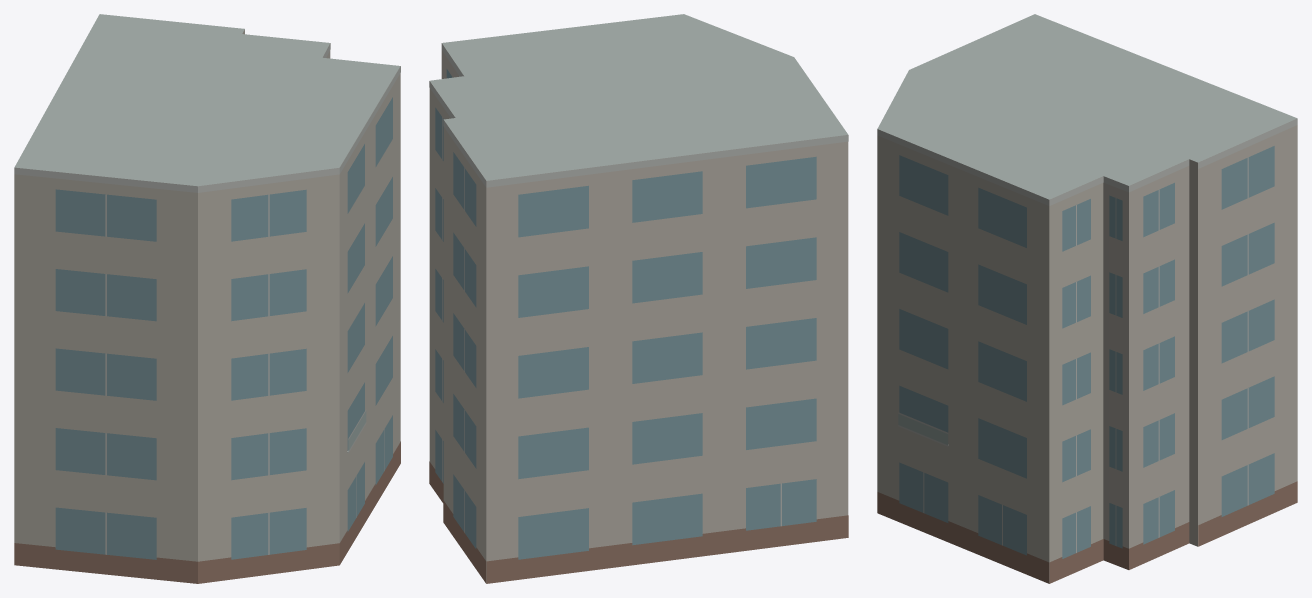
File: survey-upis-33040078.glb
The picture shows the model from 3 angles, left to right: view 1: azimuth 30°, elevation 25°; view 2: azimuth 150°, elevation 25°; view 3: azimuth 270°, elevation 25°; orthographic projection. The views are drawn at different scales.
Parts seen in each view (by area): view 1: survey-upis-33040078.tmp; view 2: survey-upis-33040078.tmp; view 3: survey-upis-33040078.tmp.
Part boxes in pixels (x1=…): survey-upis-33040078.tmp: x1=14, y1=14, x2=400, y2=583; survey-upis-33040078.tmp: x1=429, y1=14, x2=848, y2=583; survey-upis-33040078.tmp: x1=877, y1=14, x2=1297, y2=583.
Size of the model in its own units: 15.04 by 14.5 by 14.39.
